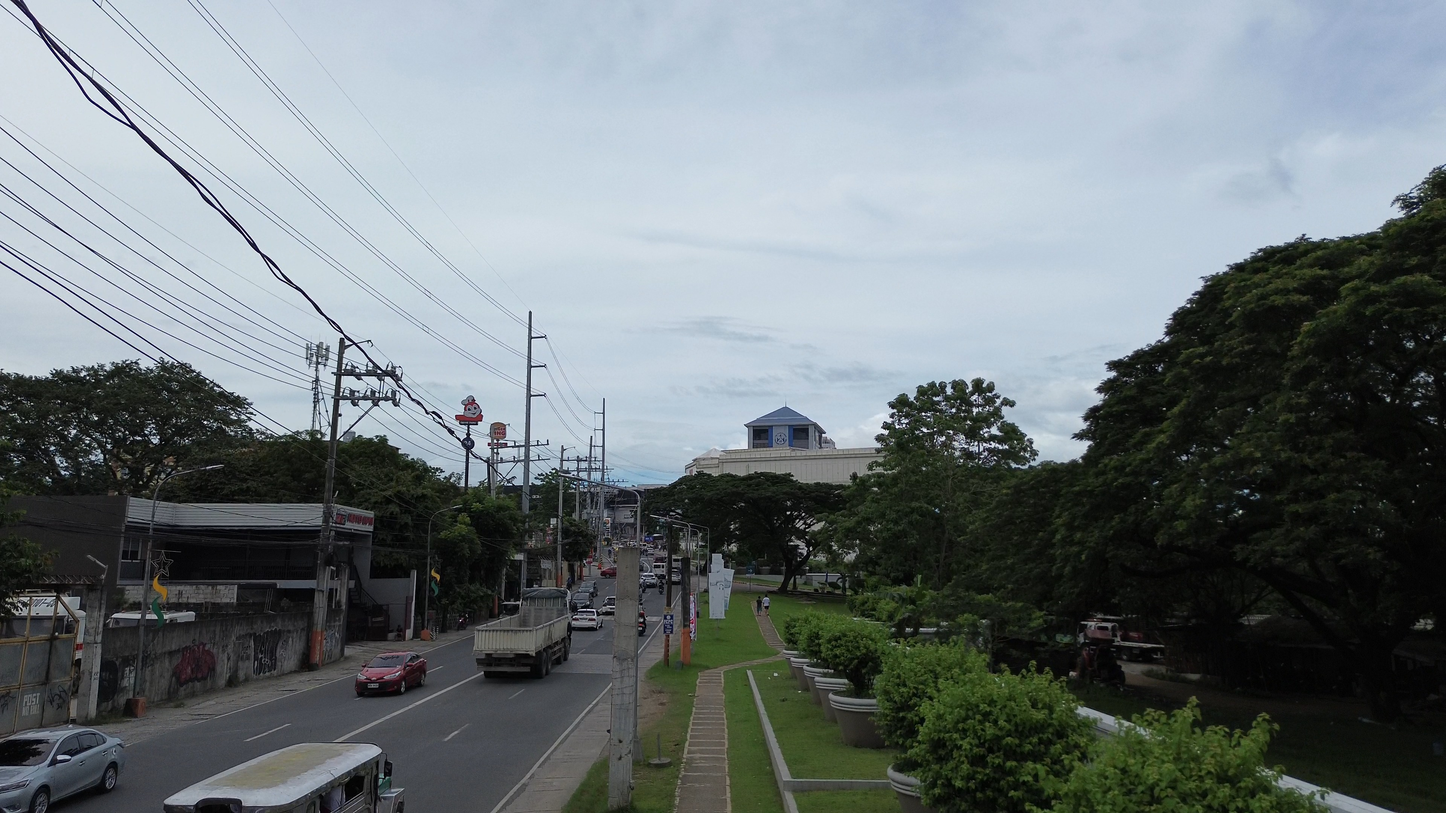car: (355, 652, 426, 696), (640, 572, 658, 588), (599, 565, 617, 577)
truck: (474, 588, 571, 678)
vehicle: (165, 743, 403, 813), (0, 727, 124, 813), (1078, 617, 1164, 662), (107, 610, 154, 627), (570, 609, 602, 630), (570, 590, 593, 611), (577, 580, 598, 597), (598, 596, 616, 615), (651, 560, 667, 580), (640, 573, 659, 588), (637, 609, 647, 636)
